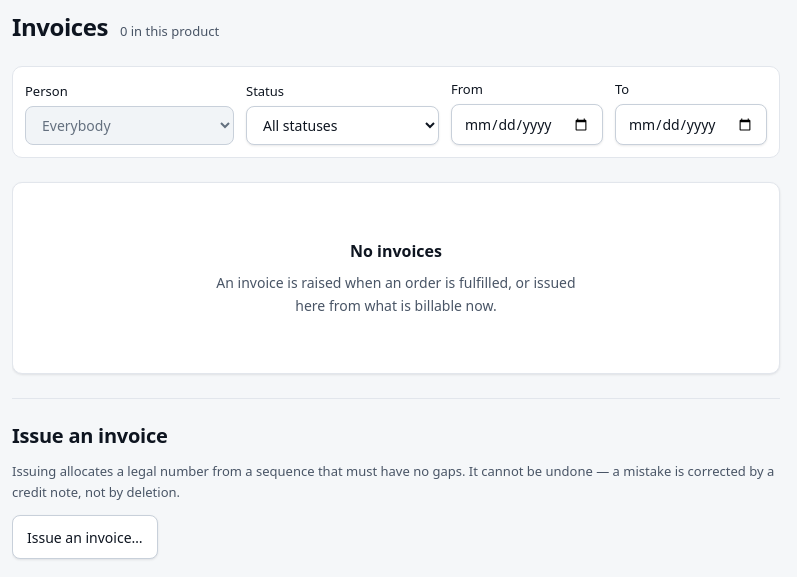
Test case: the filter above the list › says an empty page is the filter's, and keeps the filter on screen
Select "REJECTED" in the dropdown with test id "filter-status": (342, 126) x1=246 y1=106 x2=439 y2=145
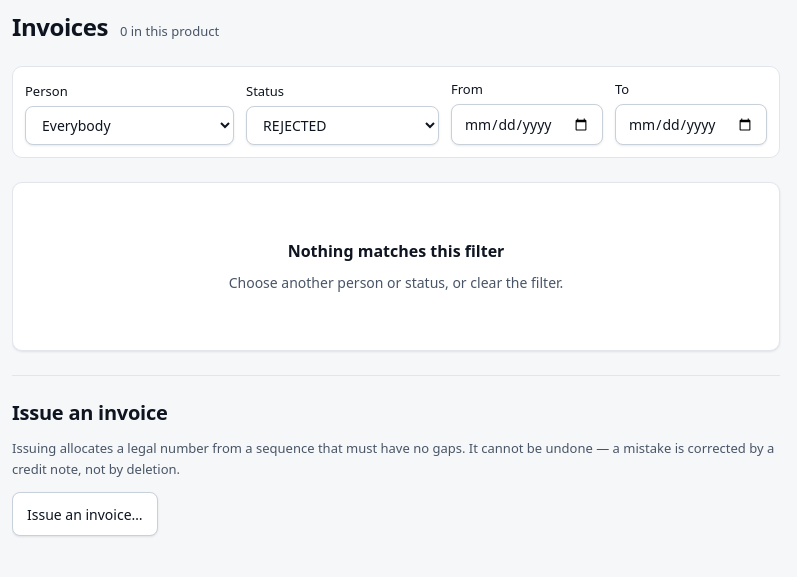
Expected: the element with test id "invoice-filters" is shown, x1=12 y1=66 x2=780 y2=158
Expected: the text "Nothing matches this filter" is shown, x1=288 y1=239 x2=504 y2=263
